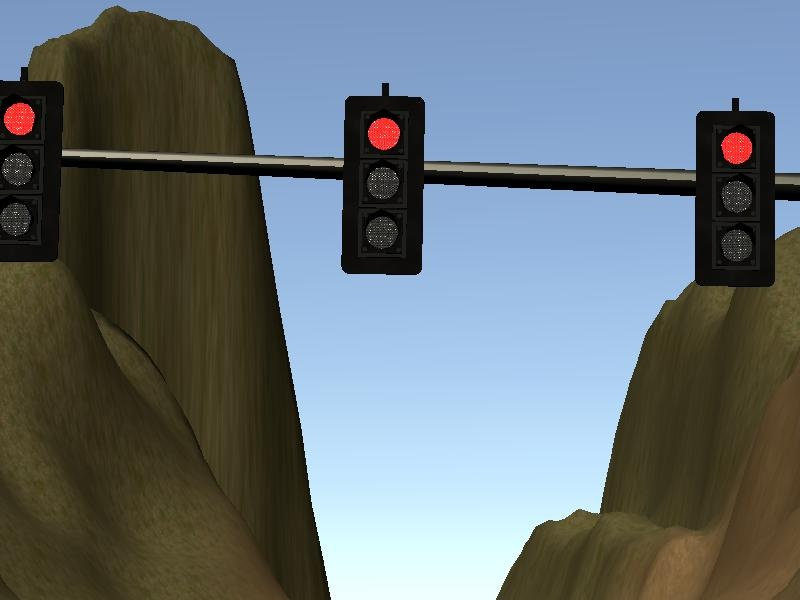red: (343, 96, 421, 275), (693, 108, 772, 284), (1, 84, 60, 261)
